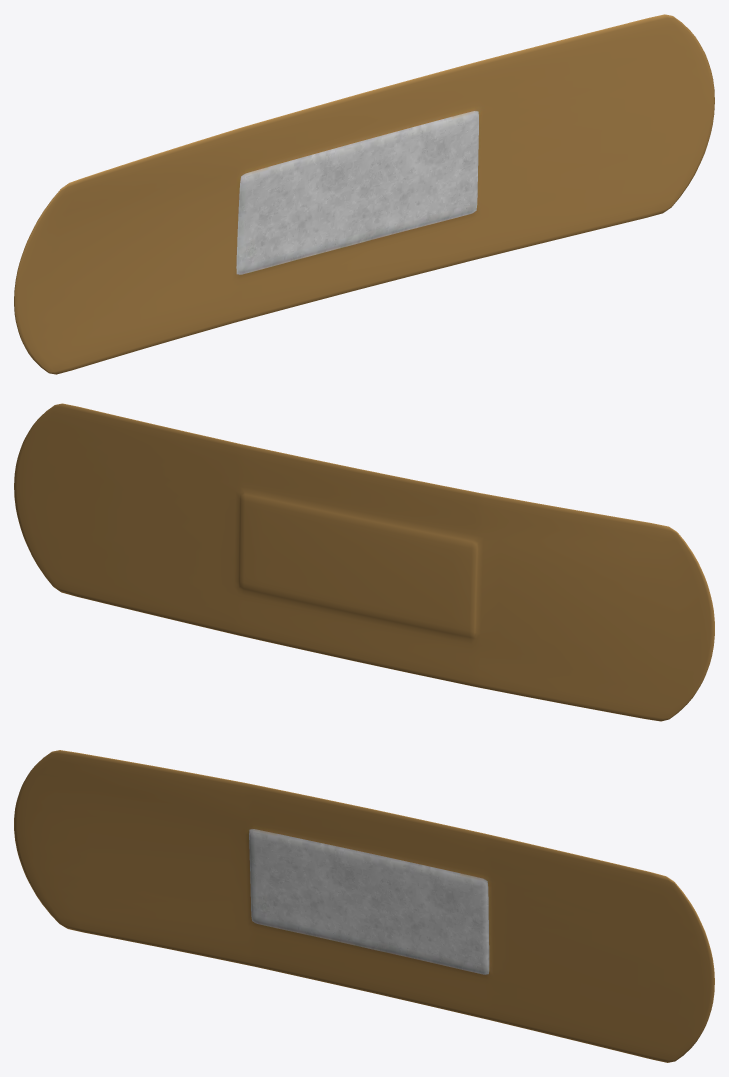
Rendered from pansement.glb.
The picture shows the model from 3 angles, top to bottom: view 1: azimuth 30°, elevation 25°; view 2: azimuth 150°, elevation 25°; view 3: azimuth 330°, elevation 25°; orthographic projection. The views are drawn at different scales.
Parts seen in each view (by area): view 1: Bandage_Bandage_0; view 2: Bandage_Bandage_0; view 3: Bandage_Bandage_0.
Part boxes in pixels (x1,y1,x2,y2): Bandage_Bandage_0: [14, 14, 714, 374]; Bandage_Bandage_0: [14, 403, 714, 721]; Bandage_Bandage_0: [14, 750, 714, 1062].
Size of the model in its own units: 0.072 by 0.0193 by 0.00482.
1 material, 1 textured.
